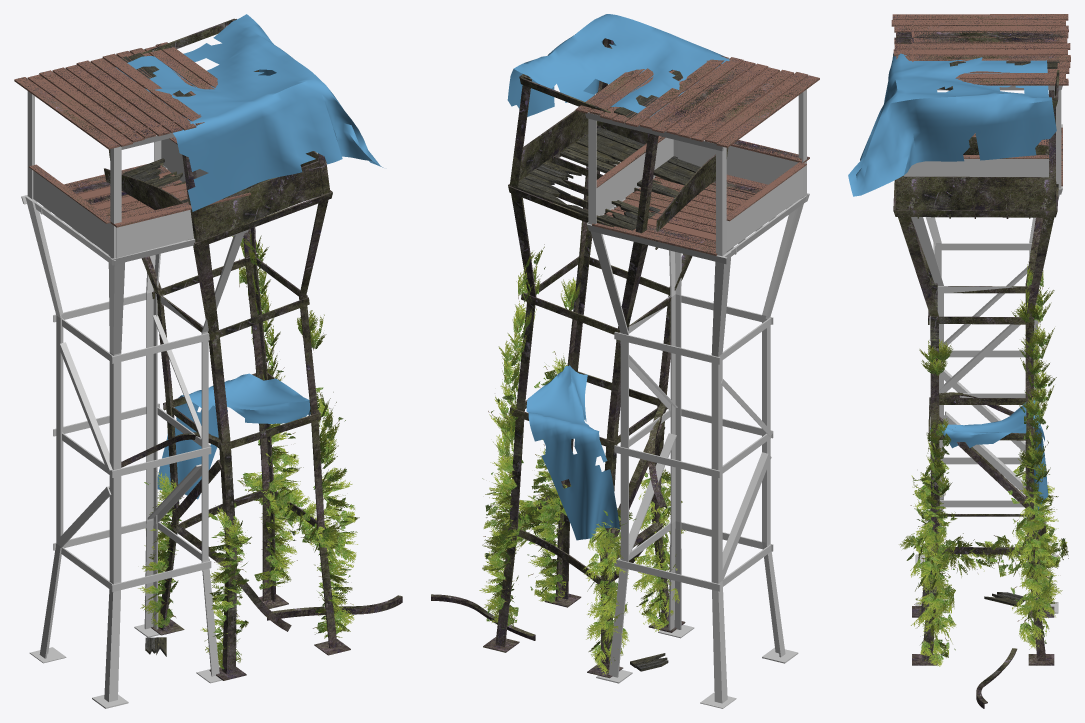
File: WatchTower.fbx
3 renders of one model, left to right at view 1: azimuth 30°, elevation 25°; view 2: azimuth 150°, elevation 25°; view 3: azimuth 270°, elevation 25°, orthographic. The views are drawn at different scales.
Parts seen in each view (by area): view 1: Tower_Old, Tower_1; view 2: Tower_Old, Tower_1; view 3: Tower_Old, Tower_1.
Part boxes in pixels (left/top/right/bottom): Tower_Old: left=104, top=14, right=402, bottom=680; Tower_1: left=14, top=42, right=250, bottom=708; Tower_Old: left=431, top=14, right=729, bottom=678; Tower_1: left=575, top=55, right=819, bottom=708; Tower_Old: left=848, top=53, right=1068, bottom=708; Tower_1: left=891, top=14, right=1070, bottom=613.
Size of the model in its own units: 420 by 692 by 252.
